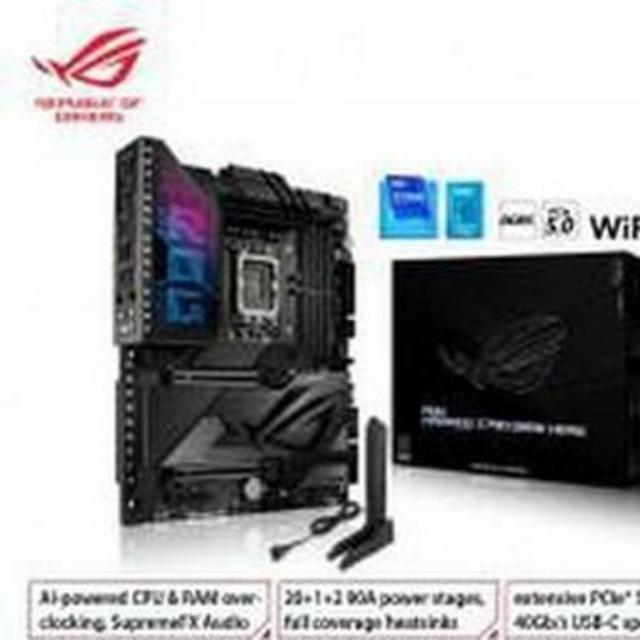Mainboard: (111, 132, 357, 530)
